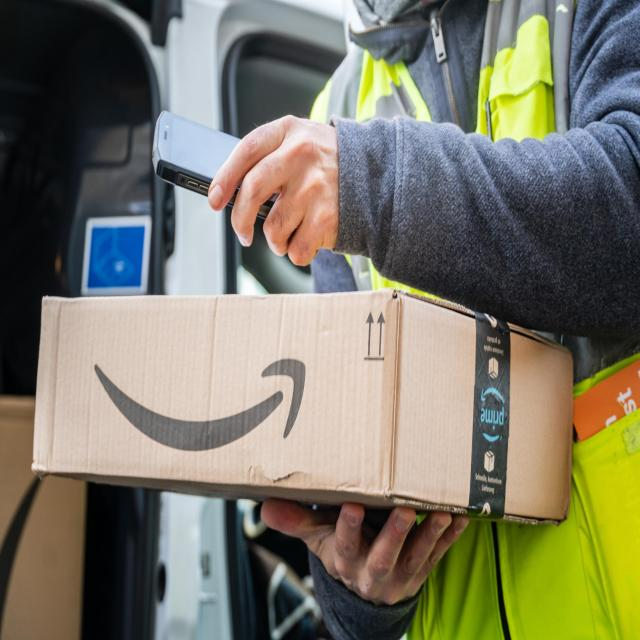Pathole: (29, 282, 576, 540)
